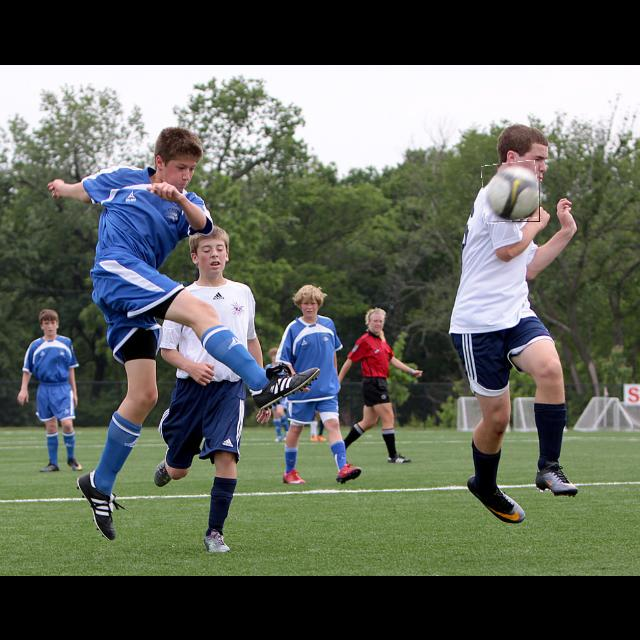Football: (482, 162, 540, 222)
